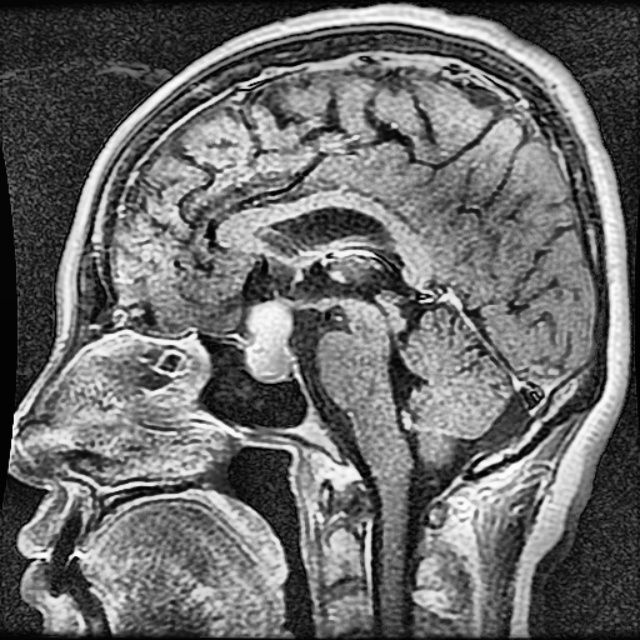Pituitary: (244, 304, 292, 377)
